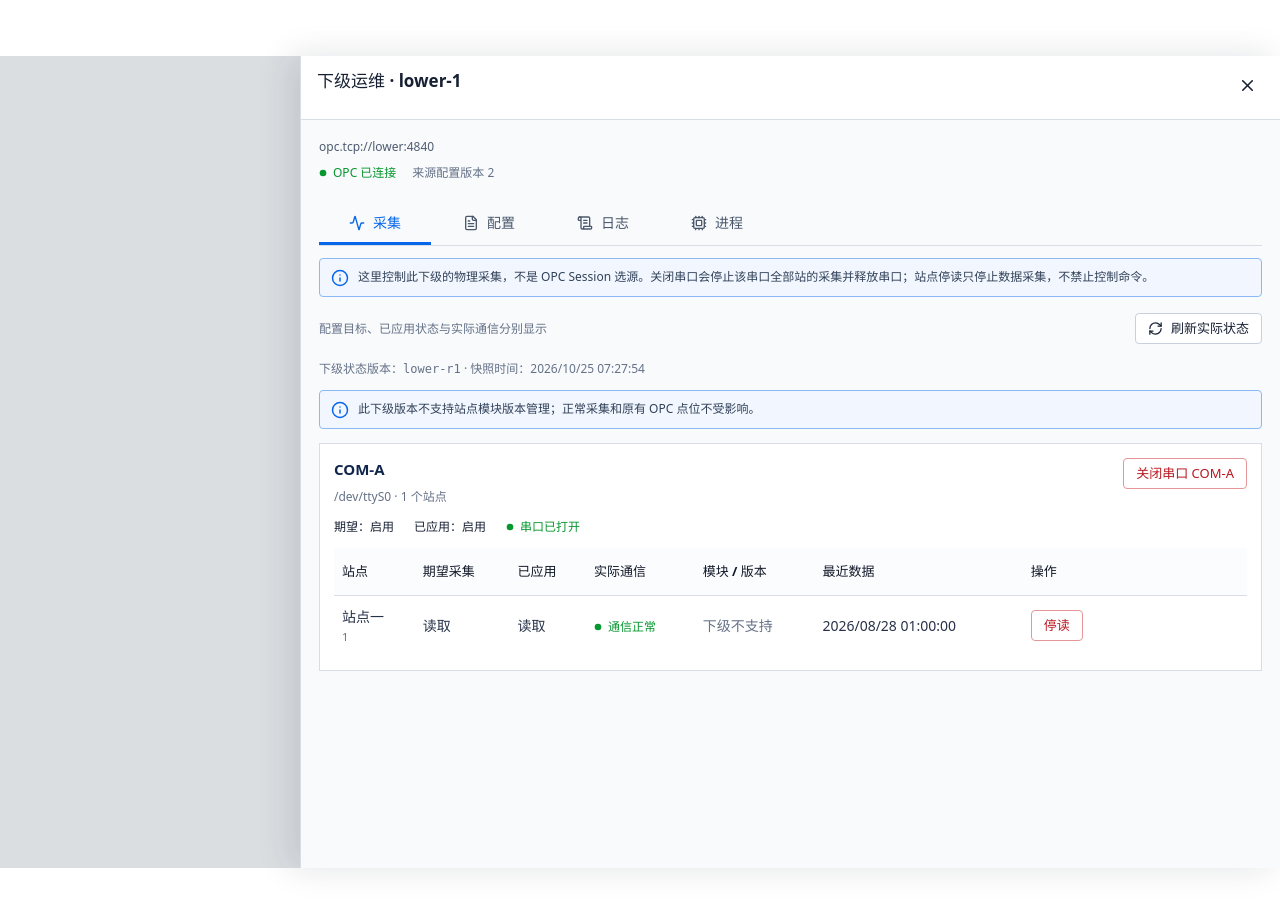
physical lower-source operations drawer › does not retry an uncertain device control and refreshes its real status
This screenshot has width=1280, height=900.
Click the button with aria-label "停读 /dev/ttyS0 1" at (1057, 626), box [1031,610,1083,641]
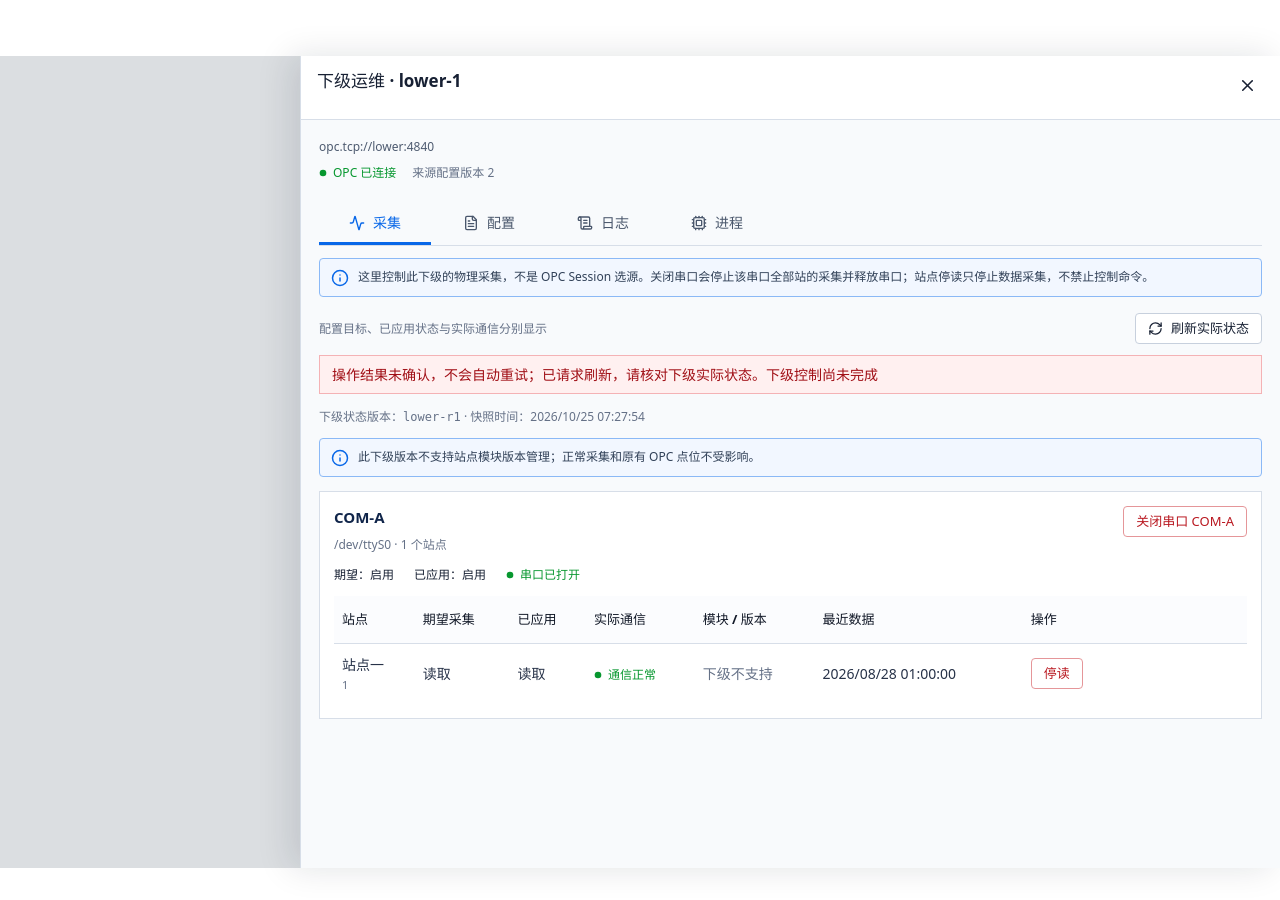
Expected: the text "站点停读只停止数据采集，不禁止控制命令" is shown, [358,268,1154,285]
Expected: the text "操作结果未确认，不会自动重试；已请求刷新，请核对下级实际状态。下级控制尚未完成" is shown, [319,355,1262,394]
